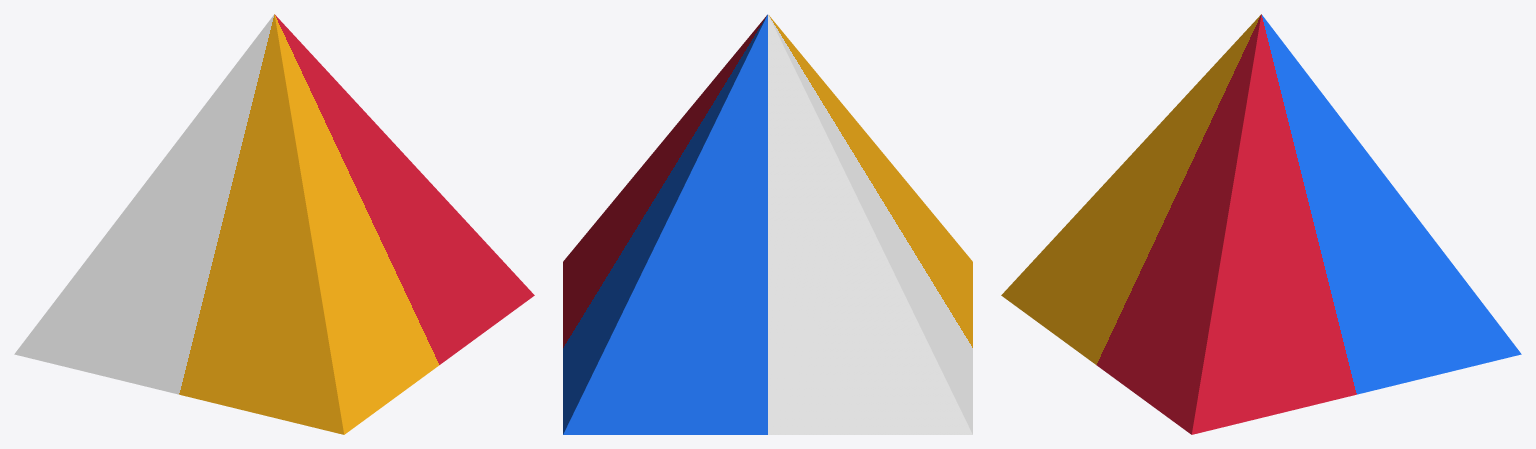
File: piramit.gltf
3 renders of one model, left to right at view 1: azimuth 30°, elevation 25°; view 2: azimuth 150°, elevation 25°; view 3: azimuth 270°, elevation 25°, orthographic. The views are drawn at different scales.
Visible parts, largest first — view 1: Tgame Dokulu Piramit; view 2: Tgame Dokulu Piramit; view 3: Tgame Dokulu Piramit.
Boxes of the visible parts, bbox=[...] form: Tgame Dokulu Piramit: bbox=[14, 14, 534, 434]; Tgame Dokulu Piramit: bbox=[563, 14, 972, 434]; Tgame Dokulu Piramit: bbox=[1001, 14, 1521, 434].
Bounding box in the file's own units: 2.19 × 1.44 × 2.19.
Materials: 1 (1 with a texture image).
